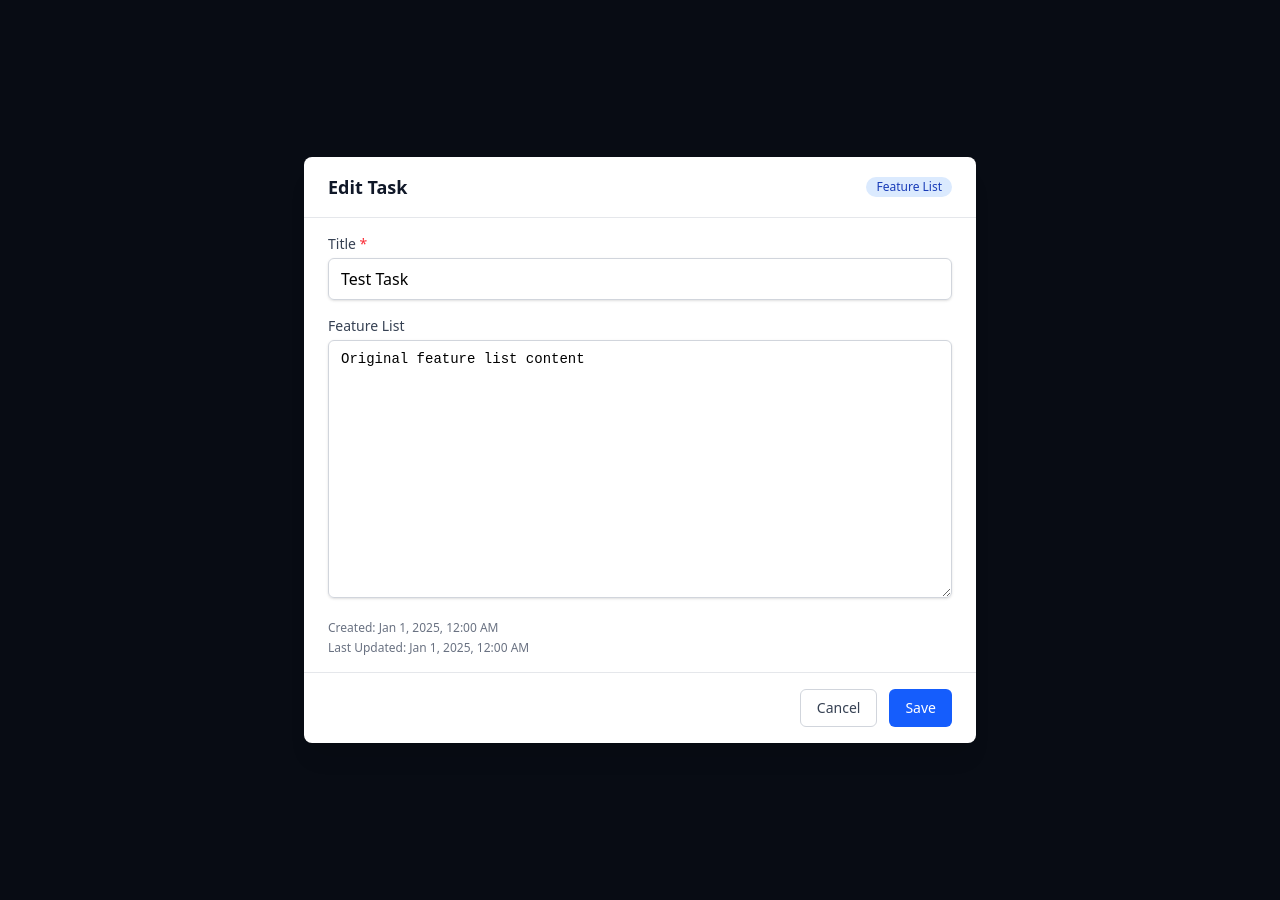
Test case: TaskEditModal › Loading State › should show loading state while saving
Click the button "Save": point(921, 708) [889,689,952,727]
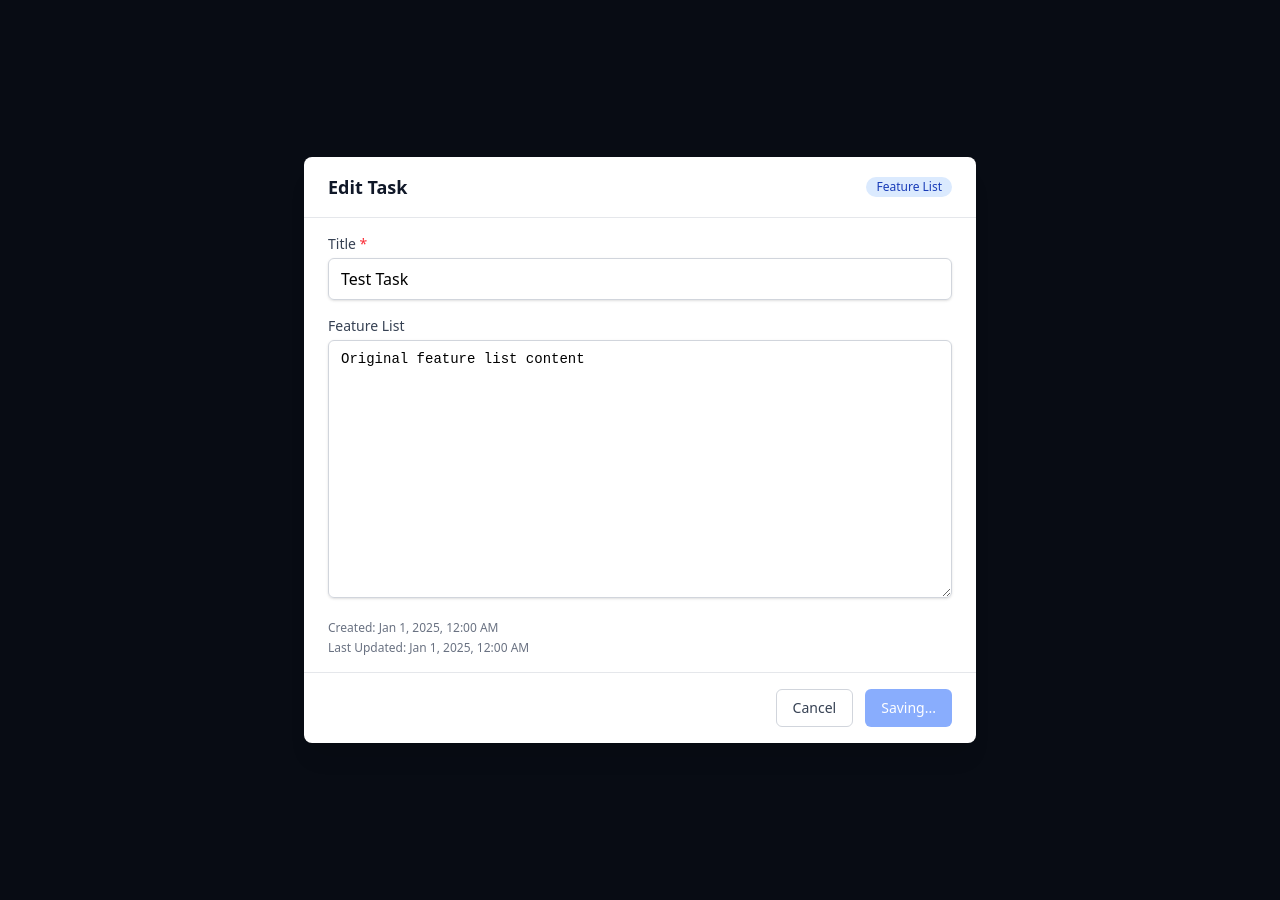
Expected: the button "Saving..." is shown, [865,689,952,727]
